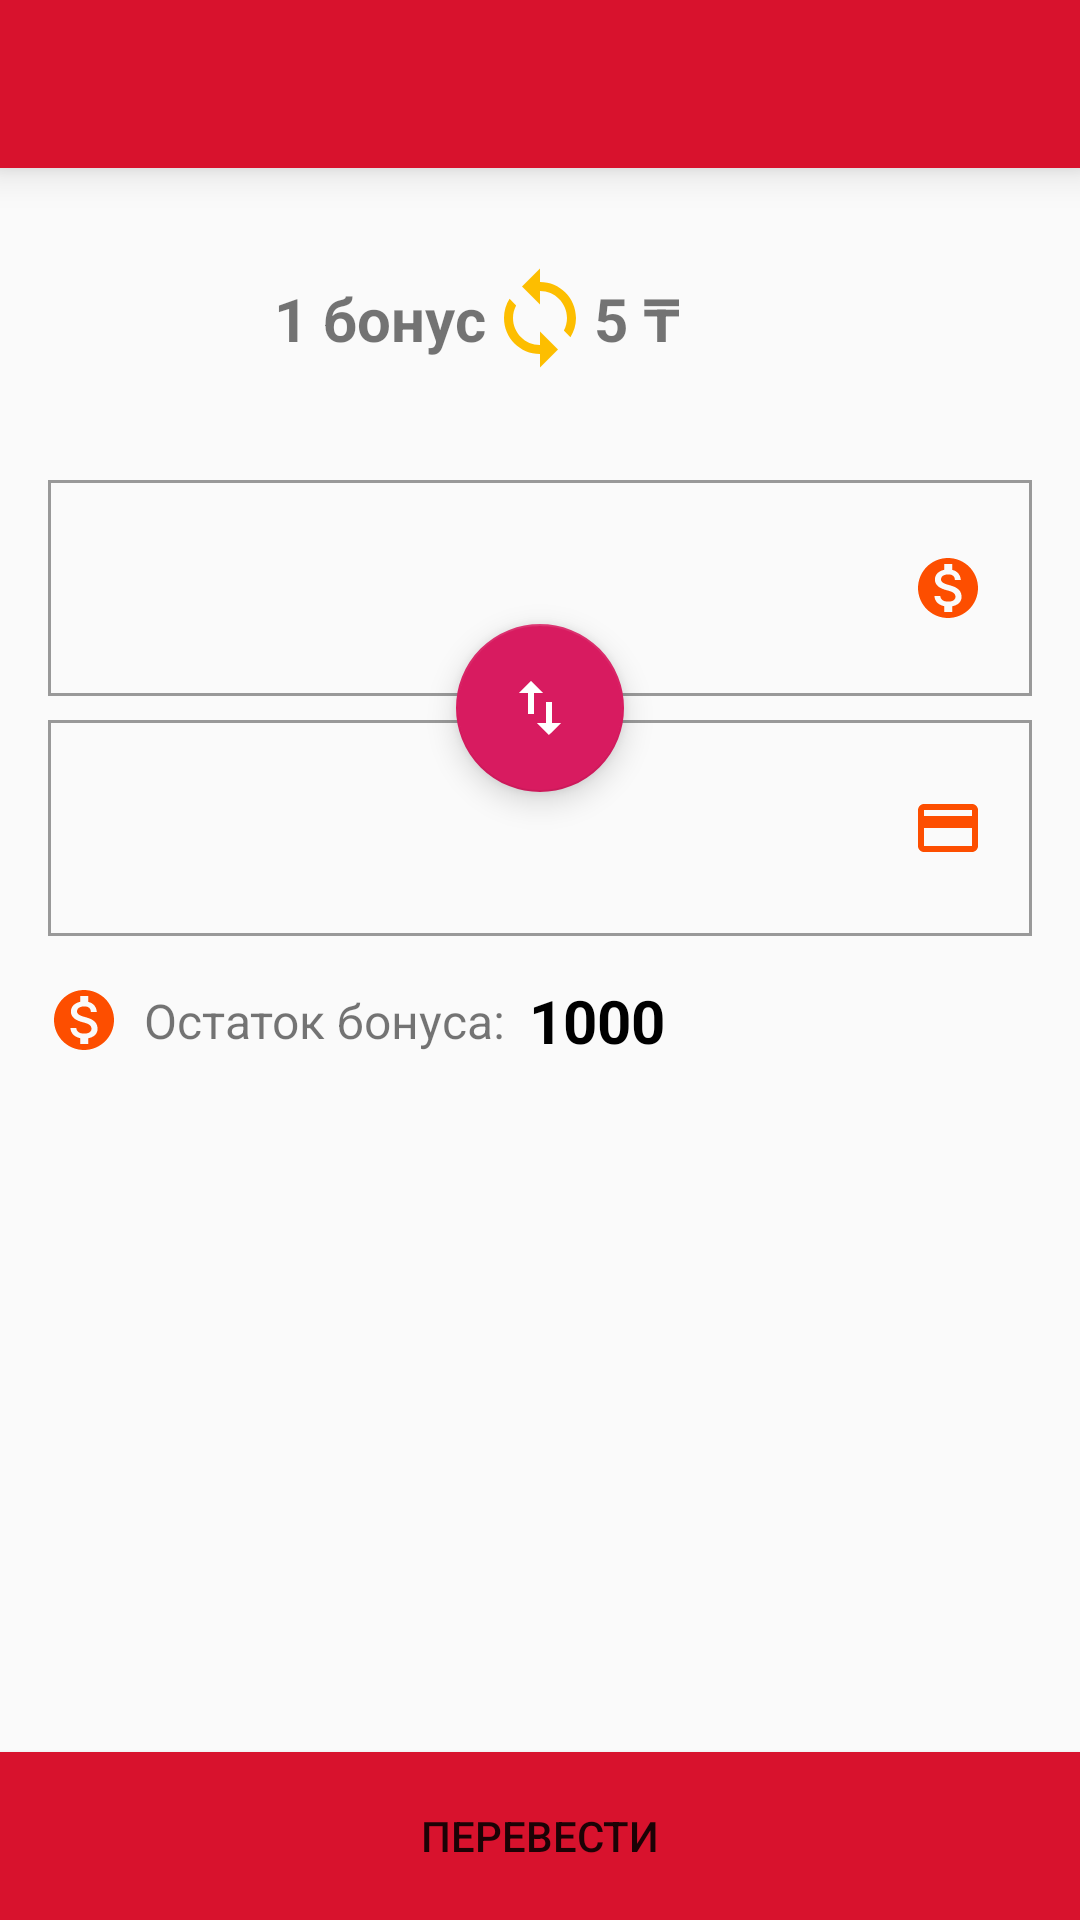

Icons on this 1080×1920 Android screen, each with its box as detection(x1, y1, x2, y2):
loop: detection(504, 268, 576, 368)
swap vert: detection(456, 624, 624, 792)
